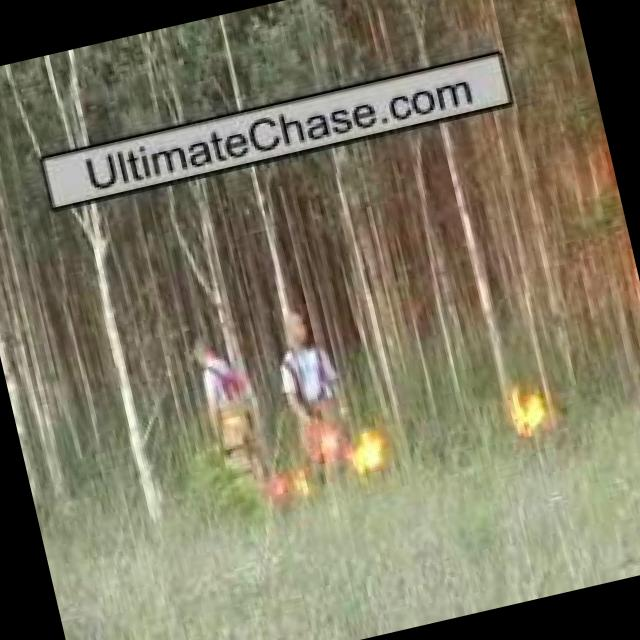Fire: (345, 424, 394, 477)
Smoke: (506, 381, 556, 446)
